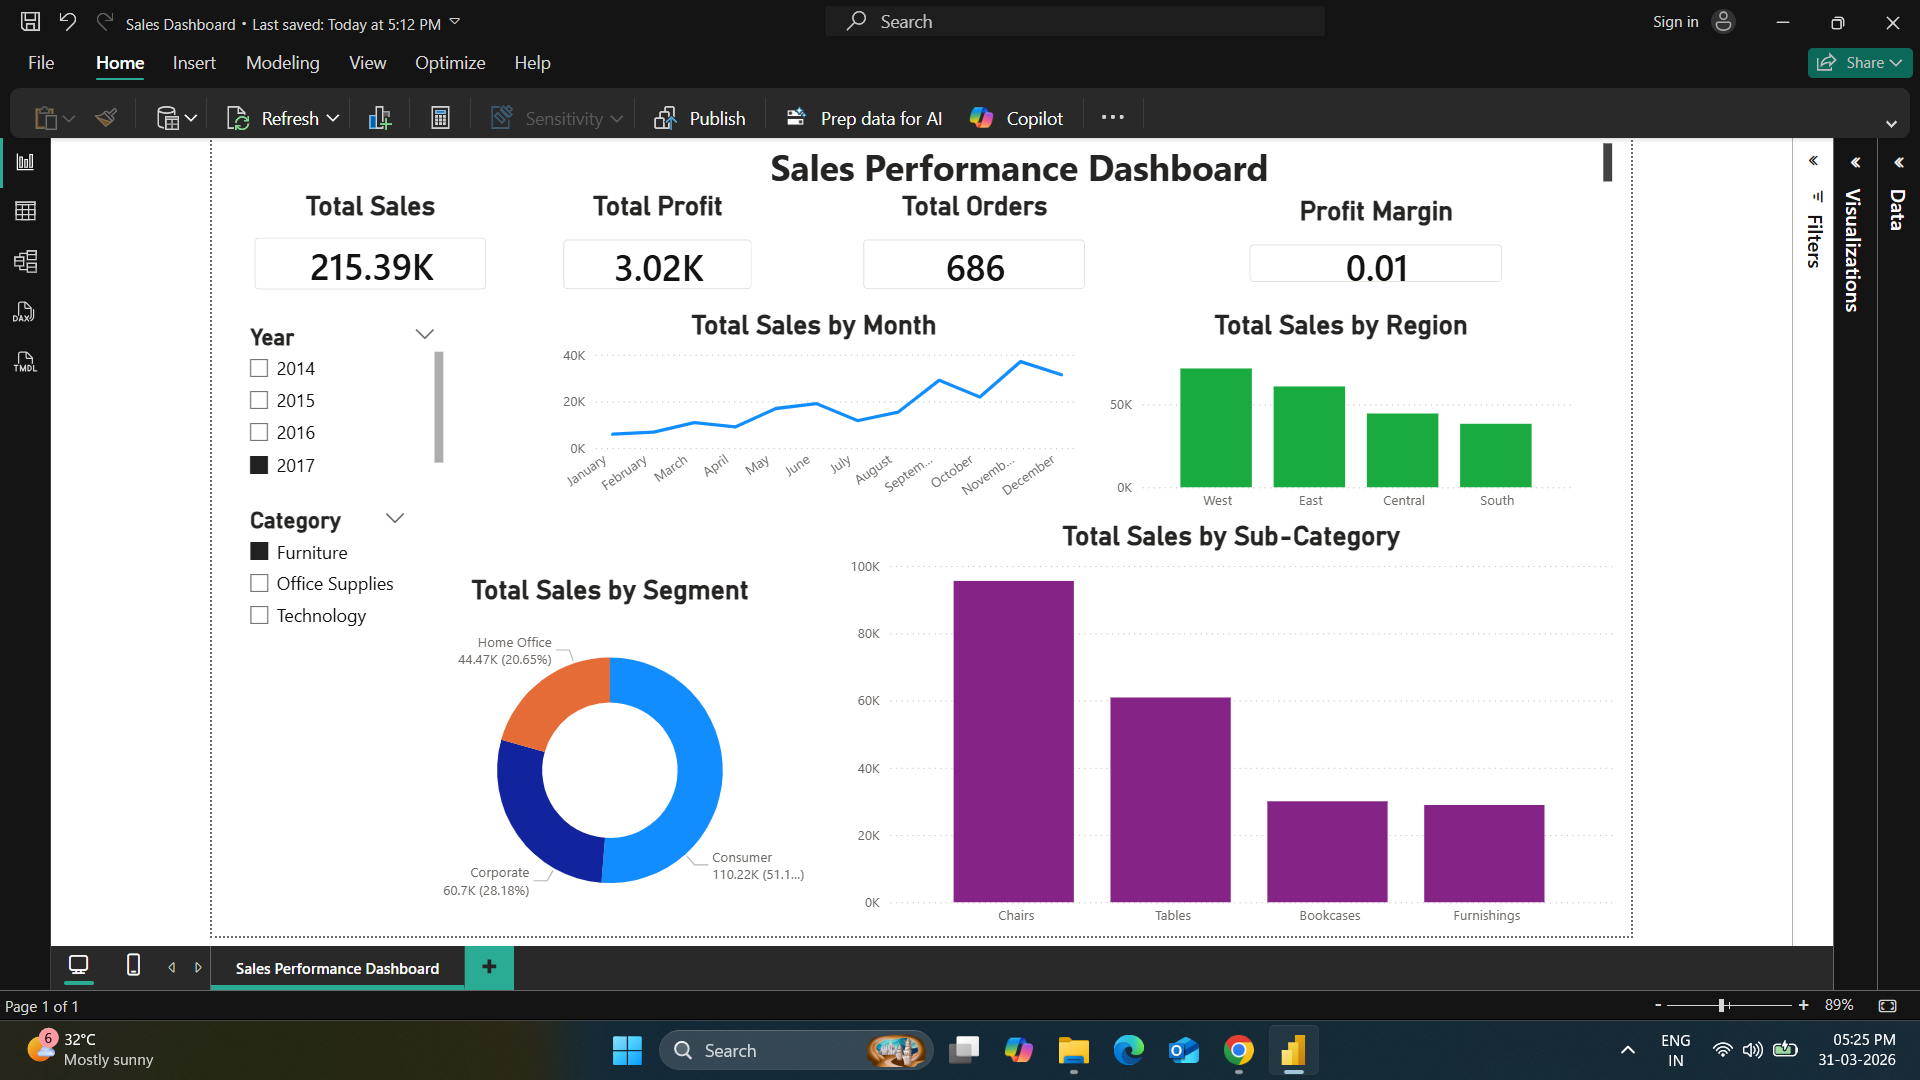

Layout of this report page (visuals, bound fields, positions):
{"tool":"powerbi","page":{"name":"Sales Performance Dashboard","canvas":[1280,720],"ordinal":0},"visuals":[{"type":"cardVisual","title":"Total Sales","fields":{"Data":["Sum(Orders$FilterDatabase.Sales)"]},"box":[20.9,47.7,243,107],"z":0},{"type":"cardVisual","title":"Total Profit","fields":{"Data":["Sum(Orders$FilterDatabase.Profit)"]},"box":[300,47.7,204.7,107],"z":1000},{"type":"cardVisual","title":"Total Orders","fields":{"Data":["CountNonNull(Orders$FilterDatabase.Order ID)"]},"box":[569.8,47.7,234.9,107],"z":2000},{"type":"cardVisual","title":"Profit Margin","fields":{"Data":["Orders$FilterDatabase.Profit Margin"]},"box":[918.6,52.3,262.8,95.3],"z":3000},{"type":"lineChart","title":"Total Sales by Month","fields":{"Category":["Orders$FilterDatabase.Order Date.Variation.Date Hierarchy.Month"],"Y":["Sum(Orders$FilterDatabase.Sales)"]},"box":[300,154.7,486,181.4],"z":4000},{"type":"clusteredColumnChart","title":"Total Sales by Region","fields":{"Category":["Orders$FilterDatabase.Region"],"Y":["Sum(Orders$FilterDatabase.Sales)"]},"box":[804.7,154.7,426.7,190.7],"z":5000},{"type":"clusteredColumnChart","title":"Total Sales by Sub-Category","fields":{"Category":["Orders$FilterDatabase.Sub-Category"],"Y":["Sum(Orders$FilterDatabase.Sales)"]},"box":[569.8,345.3,697.7,374.4],"z":6000},{"type":"slicer","fields":{"Values":["Orders$FilterDatabase.Order Date.Variation.Date Hierarchy.Year"]},"box":[20.9,162.8,191.9,147.7],"z":8000},{"type":"slicer","fields":{"Values":["Orders$FilterDatabase.Category"]},"box":[20.9,327.9,165.1,129.1],"z":9000},{"type":"textbox","box":[196.4,0,1071.5,48.1],"z":10000},{"type":"donutChart","title":"Total Sales by Segment","fields":{"Category":["Orders$FilterDatabase.Segment"],"Y":["Sum(Orders$FilterDatabase.Sales)"]},"box":[174.4,393,368.6,326.7],"z":10001}]}

Visuals, with their boxes on the page's 1280x720 design canvas (x1, y1, x2, y2). These are canvas units, not pixel positions in the 1920x1080 screenshot, which may show the page scaled, cropped or inside an application window:
"Total Sales" cardVisual: locate(21, 48, 264, 155)
"Total Profit" cardVisual: locate(300, 48, 505, 155)
"Total Orders" cardVisual: locate(570, 48, 805, 155)
"Profit Margin" cardVisual: locate(919, 52, 1181, 148)
"Total Sales by Month" lineChart: locate(300, 155, 786, 336)
"Total Sales by Region" clusteredColumnChart: locate(805, 155, 1231, 345)
"Total Sales by Sub-Category" clusteredColumnChart: locate(570, 345, 1268, 720)
slicer - Orders$FilterDatabase.Order Date.Variation.Date Hierarchy.Year: locate(21, 163, 213, 310)
slicer - Orders$FilterDatabase.Category: locate(21, 328, 186, 457)
textbox: locate(196, 0, 1268, 48)
"Total Sales by Segment" donutChart: locate(174, 393, 543, 720)
